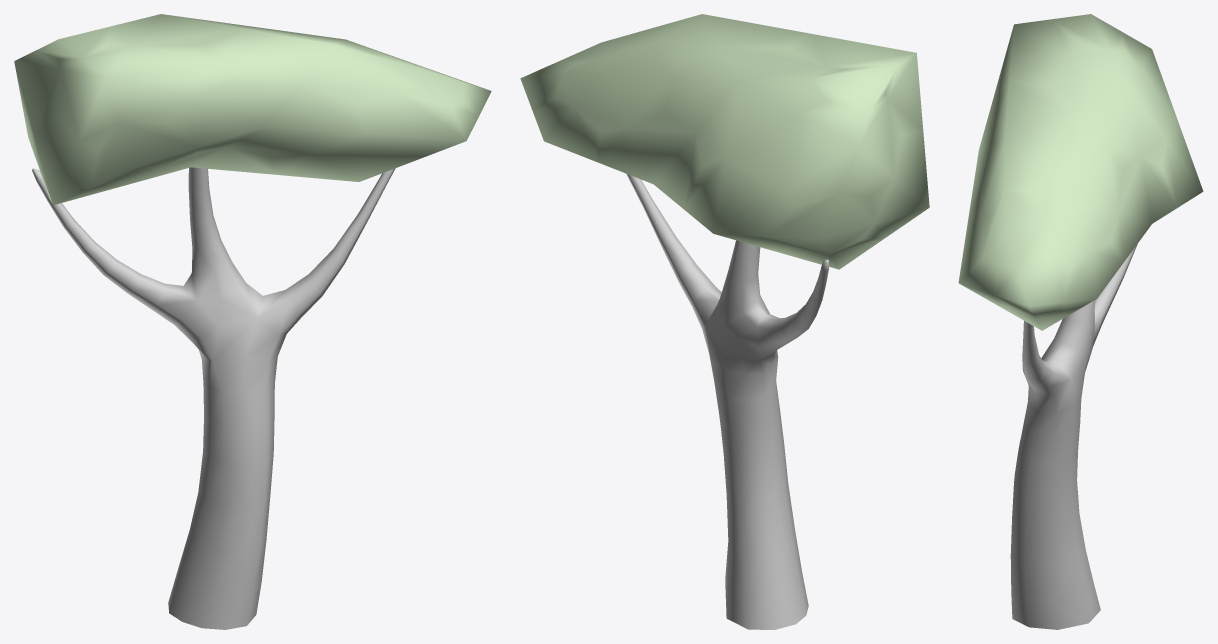
File: stylized-tree-01.fbx
3 renders of one model, left to right at view 1: azimuth 30°, elevation 25°; view 2: azimuth 150°, elevation 25°; view 3: azimuth 270°, elevation 25°, orthographic. The views are drawn at different scales.
Visible parts, largest first — view 1: Tree_01_leaves, Tree_01_bark; view 2: Tree_01_leaves, Tree_01_bark; view 3: Tree_01_leaves, Tree_01_bark.
Boxes of the visible parts, box(x1,y1,x2,y2) form: Tree_01_leaves: box(14, 14, 491, 205); Tree_01_bark: box(32, 167, 395, 629); Tree_01_leaves: box(520, 14, 929, 269); Tree_01_bark: box(626, 174, 828, 629); Tree_01_leaves: box(958, 14, 1203, 330); Tree_01_bark: box(1010, 244, 1137, 629).
Size of the model in its own units: 179 by 237 by 97.59.
